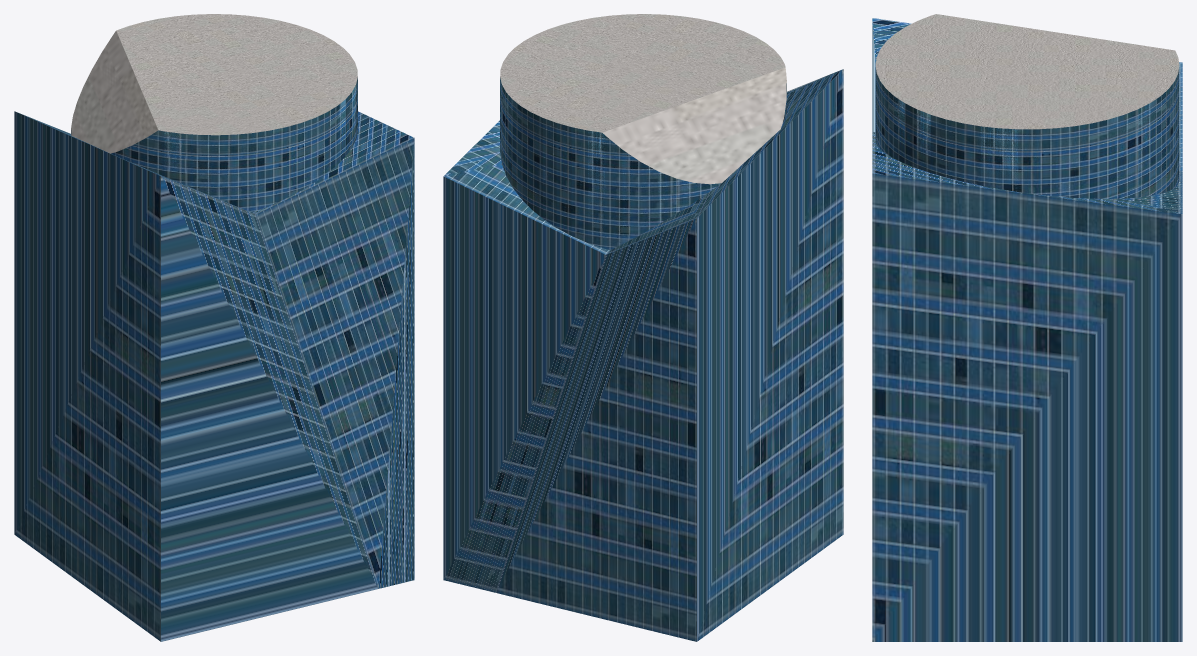
3 views of the same model, side by side, from view 1: azimuth 30°, elevation 25°; view 2: azimuth 150°, elevation 25°; view 3: azimuth 270°, elevation 25° (orthographic). The views are drawn at different scales.
Parts seen in each view (by area): view 1: building22_cell.001, building22_cell, building22, building22_cell.002; view 2: building22_cell.001, building22, building22_cell, building22_cell.002; view 3: building22_cell, building22, building22_cell.002, building22_cell.001.
Boxes of the visible parts, x1=… form: building22_cell.001: x1=14, y1=111, x2=378, y2=641; building22_cell: x1=252, y1=111, x2=414, y2=588; building22: x1=71, y1=14, x2=357, y2=212; building22_cell.002: x1=71, y1=49, x2=355, y2=211; building22_cell.001: x1=495, y1=69, x2=843, y2=641; building22: x1=500, y1=14, x2=786, y2=249; building22_cell: x1=443, y1=120, x2=610, y2=592; building22_cell.002: x1=500, y1=43, x2=786, y2=248; building22_cell: x1=872, y1=132, x2=1182, y2=641; building22: x1=875, y1=14, x2=1179, y2=198; building22_cell.002: x1=876, y1=45, x2=1179, y2=198; building22_cell.001: x1=872, y1=18, x2=1182, y2=171.
Size of the model in its own units: 4.73 by 8.6 by 4.74.
2 materials, 2 textured.
